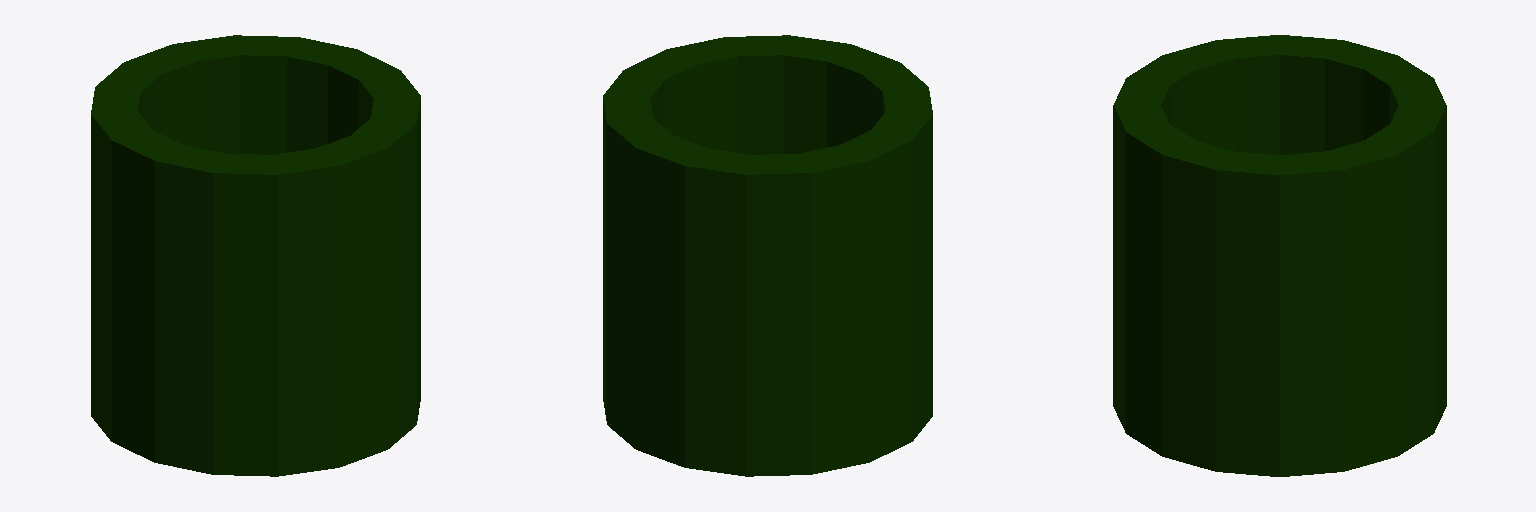
Rendered from pipeEnd.obj.
3 views of the same model, side by side, from view 1: azimuth 30°, elevation 25°; view 2: azimuth 150°, elevation 25°; view 3: azimuth 270°, elevation 25° (orthographic).
Visible parts, largest first — view 1: Circle; view 2: Circle; view 3: Circle.
Part boxes in pixels (x1,y1,x2,y2): Circle: (91,35,420,476); Circle: (603,35,932,476); Circle: (1113,35,1446,476).
Size of the model in its own units: 2 by 2 by 2.